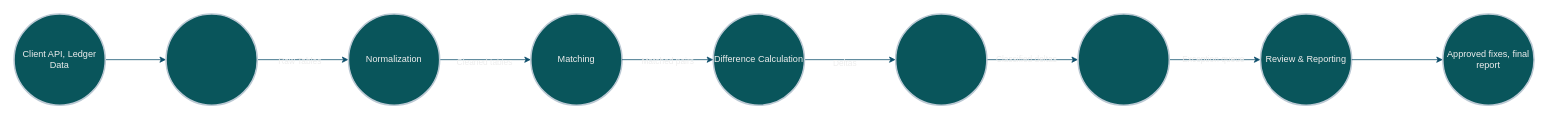
This 1547x119 diagram has some shape labels left out. Each missing label, with the box of its shape:
Anomaly Handling: (1077, 13, 1170, 106)
Classification: (895, 13, 987, 106)
Ingestion: (165, 13, 258, 106)
